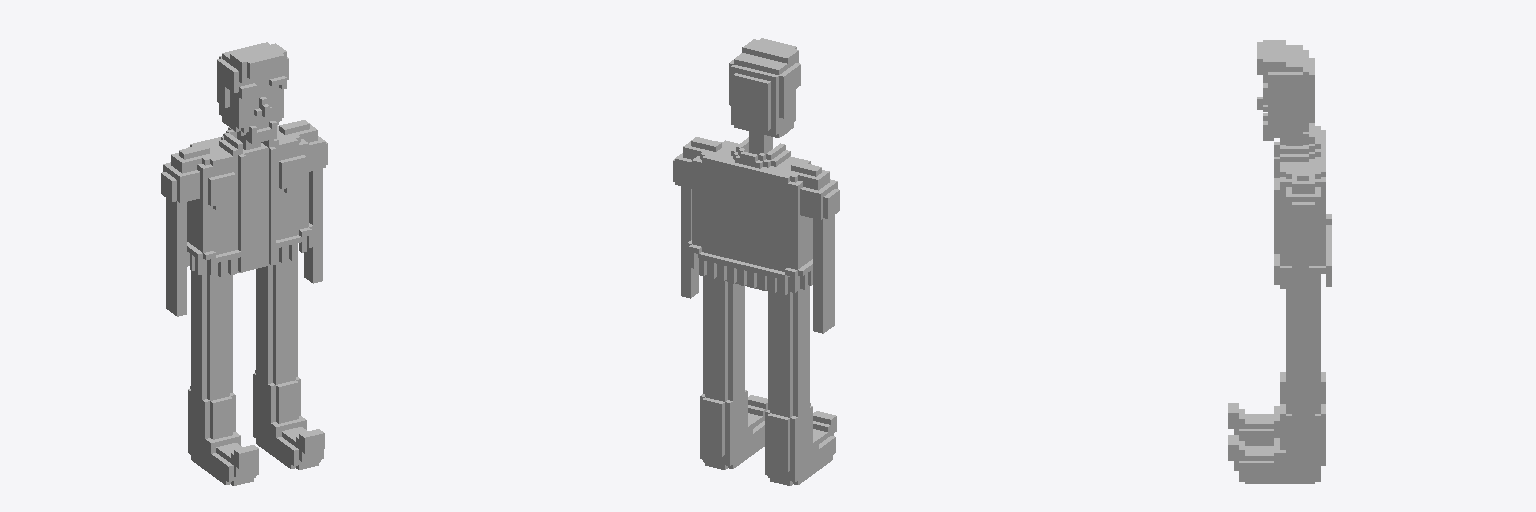
File: long _man01.obj
The picture shows the model from 3 angles: view 1: azimuth 30°, elevation 25°; view 2: azimuth 150°, elevation 25°; view 3: azimuth 270°, elevation 25°; orthographic projection.
Size of the model in its own units: 31 by 78 by 18.